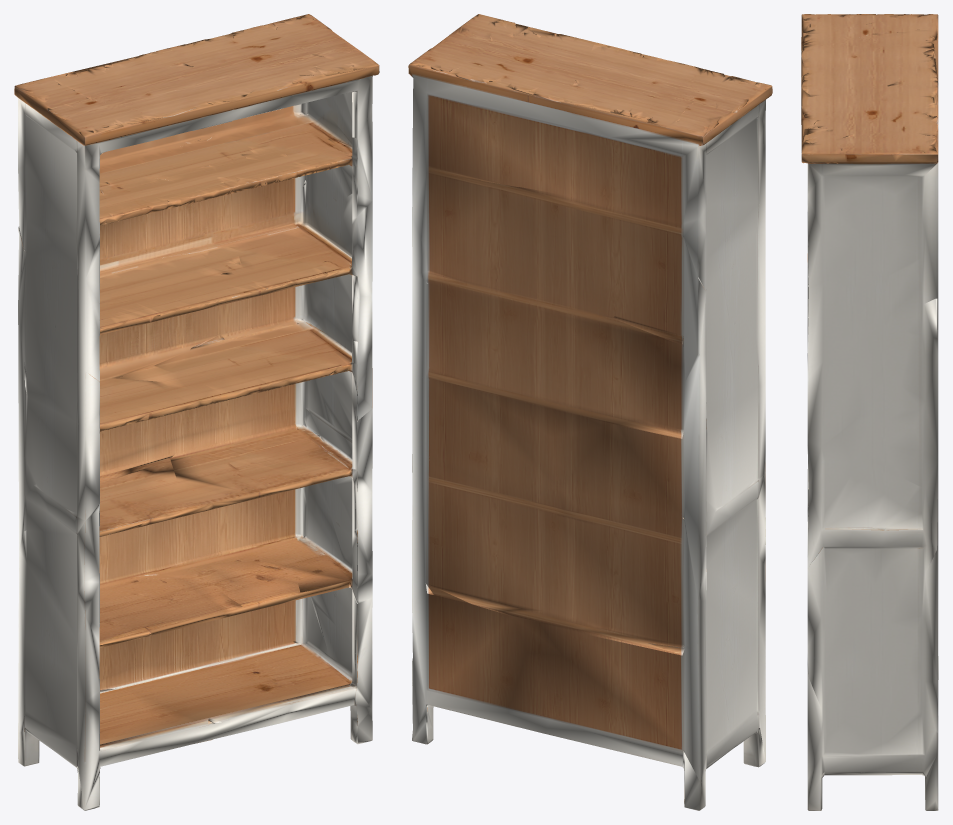
The model's file is meshy-ikea-60413502.glb.
3 renders of one model, left to right at view 1: azimuth 30°, elevation 25°; view 2: azimuth 150°, elevation 25°; view 3: azimuth 270°, elevation 25°, orthographic. The views are drawn at different scales.
Parts seen in each view (by area): view 1: Exact catalog scale: ikea-60413502; view 2: Exact catalog scale: ikea-60413502; view 3: Exact catalog scale: ikea-60413502.
Boxes of the visible parts, x1,y1,x2,y2 form: Exact catalog scale: ikea-60413502: [14, 14, 379, 810]; Exact catalog scale: ikea-60413502: [408, 14, 772, 810]; Exact catalog scale: ikea-60413502: [801, 14, 938, 810].
Size of the model in its own units: 0.899 by 1.97 by 0.371.
1 material, 1 textured.
